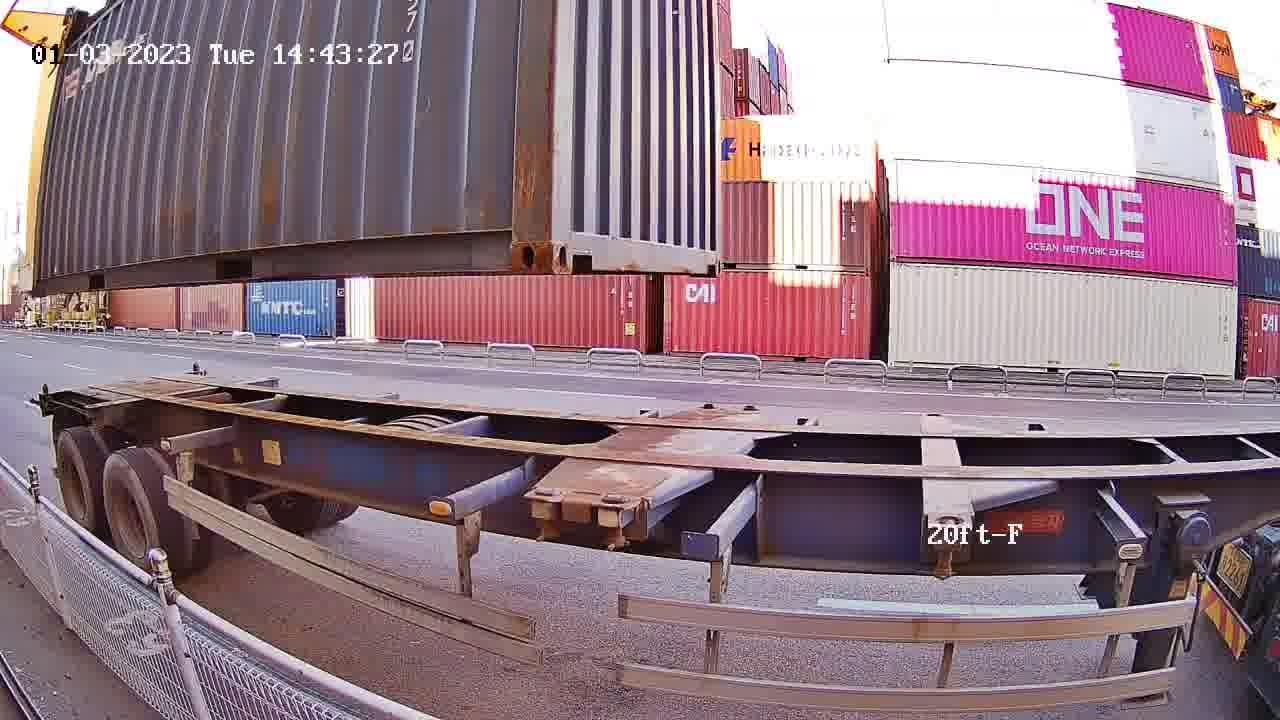Chassis: (529, 402, 723, 506), (592, 405, 764, 509)
Cone: (595, 494, 639, 556), (530, 486, 562, 543)
Hole_L: (548, 205, 605, 273)
Hole_R: (471, 206, 547, 273), (698, 235, 724, 275)
Tire: (103, 454, 163, 573), (56, 429, 99, 530)
